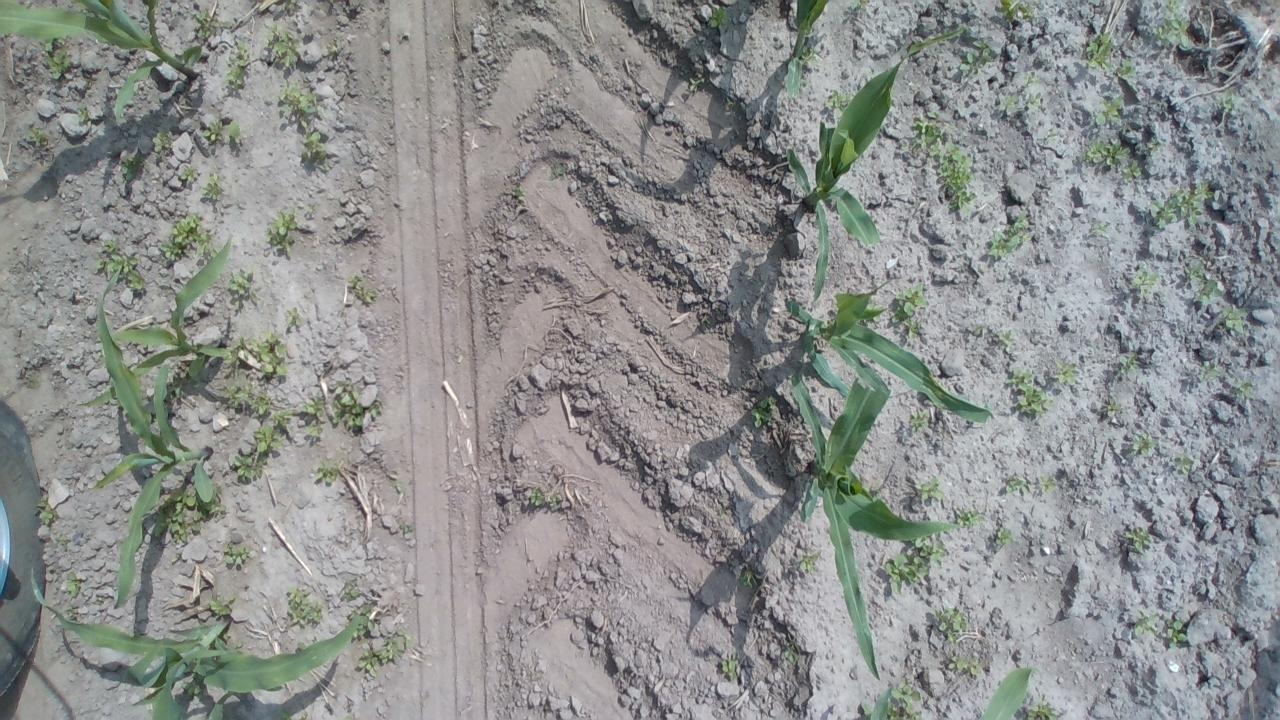Maize: (792, 361, 958, 682), (30, 568, 372, 720), (784, 24, 966, 309), (91, 266, 217, 611), (780, 282, 994, 428), (78, 235, 232, 411), (0, 0, 203, 129), (872, 664, 1032, 720), (784, 0, 826, 101)
Weeds: (154, 488, 226, 542), (1150, 183, 1214, 231), (936, 141, 978, 214), (233, 424, 285, 482), (224, 333, 288, 378), (93, 236, 146, 288), (358, 627, 413, 673), (332, 378, 382, 428), (158, 214, 210, 262), (1006, 368, 1052, 416), (901, 110, 942, 158), (278, 79, 317, 129), (989, 212, 1030, 258), (884, 552, 928, 594), (284, 586, 326, 630), (262, 22, 300, 66), (264, 207, 298, 256), (890, 283, 930, 324), (222, 382, 268, 417), (1188, 260, 1223, 302), (930, 606, 970, 642), (886, 679, 921, 720), (41, 38, 72, 82), (226, 264, 258, 305), (223, 42, 250, 90), (1082, 141, 1130, 168), (960, 38, 994, 74), (1086, 32, 1116, 71), (300, 132, 330, 170), (1152, 18, 1190, 48), (910, 533, 946, 562), (751, 395, 778, 432), (346, 274, 377, 304), (1130, 268, 1158, 300), (998, 0, 1040, 21), (208, 590, 240, 617), (1096, 96, 1123, 126), (1222, 304, 1248, 335), (1124, 526, 1154, 552), (1133, 608, 1159, 638), (350, 608, 376, 638), (220, 542, 250, 568), (32, 496, 58, 526), (947, 656, 986, 676), (916, 478, 944, 503), (194, 9, 216, 40), (1055, 359, 1080, 386), (824, 89, 851, 114), (1128, 432, 1156, 456), (182, 671, 206, 699), (1166, 618, 1188, 646), (122, 154, 144, 182), (1028, 699, 1056, 720), (202, 174, 224, 200), (1114, 56, 1137, 80), (722, 654, 742, 681), (202, 116, 222, 142), (994, 94, 1020, 114), (800, 549, 821, 573), (959, 509, 984, 529), (151, 127, 171, 152), (710, 8, 732, 30), (903, 318, 923, 342), (26, 127, 50, 147), (64, 574, 82, 600), (1118, 352, 1138, 374), (314, 464, 338, 482), (302, 398, 326, 416), (910, 411, 930, 432), (1121, 162, 1141, 183), (274, 709, 312, 720), (1219, 86, 1233, 114), (1006, 478, 1030, 494), (272, 409, 293, 427), (225, 119, 241, 142), (1176, 456, 1194, 476), (1200, 360, 1218, 380), (343, 580, 361, 600), (995, 526, 1014, 544), (284, 308, 303, 326), (180, 164, 198, 182), (741, 571, 760, 588), (528, 487, 544, 507), (1039, 477, 1056, 495), (1104, 399, 1121, 417), (512, 185, 528, 204), (782, 646, 798, 665), (800, 47, 817, 64), (689, 76, 706, 93), (998, 330, 1016, 346), (1236, 380, 1255, 395), (1146, 138, 1162, 154), (1026, 94, 1042, 109), (1023, 72, 1040, 86), (307, 424, 323, 438), (64, 604, 78, 618), (1166, 0, 1180, 13), (78, 107, 88, 124), (328, 42, 341, 55), (1096, 222, 1108, 236), (861, 703, 871, 718), (722, 98, 734, 110), (850, 0, 864, 10), (872, 312, 886, 321), (550, 496, 560, 508), (702, 318, 714, 328), (210, 247, 222, 257), (401, 524, 414, 533), (551, 168, 564, 176), (26, 376, 36, 386), (58, 536, 68, 546), (866, 303, 880, 310), (286, 0, 296, 9), (304, 206, 314, 214)
